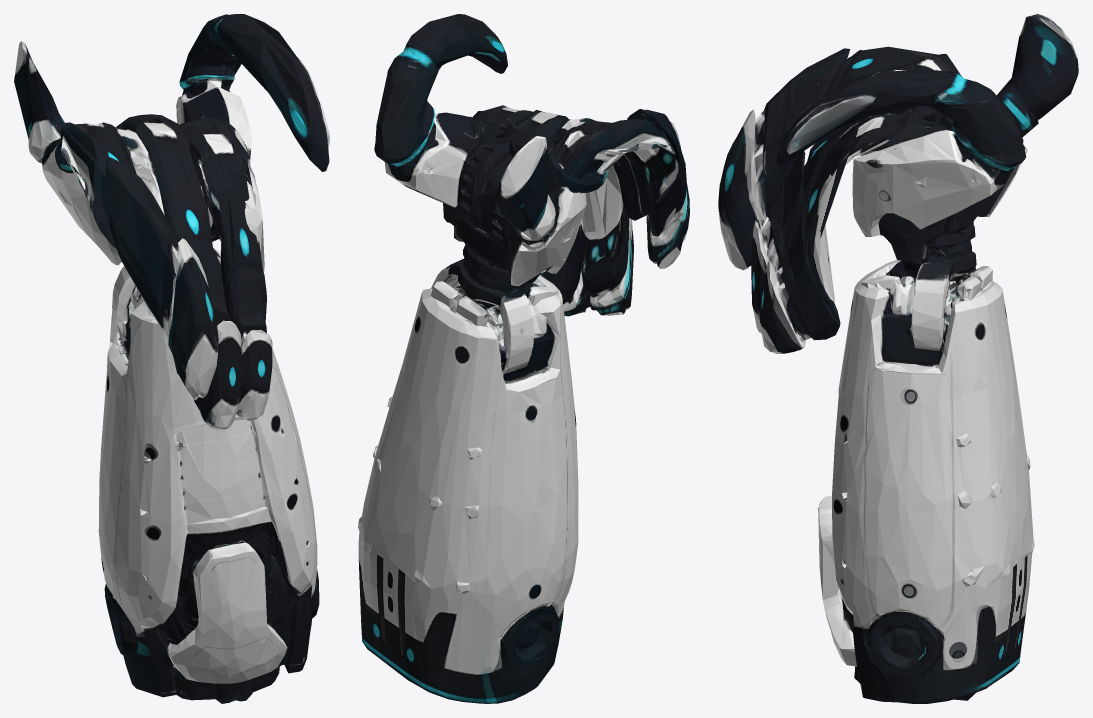
Rendered from Meshy_AI_ARMEX_Droid_Forearm_source.glb.
The picture shows the model from 3 angles, left to right: view 1: azimuth 30°, elevation 25°; view 2: azimuth 150°, elevation 25°; view 3: azimuth 270°, elevation 25°; orthographic projection. The views are drawn at different scales.
Bounding box in the file's own units: 0.6794 × 1.61 × 0.8278.
1 material, 1 textured.
